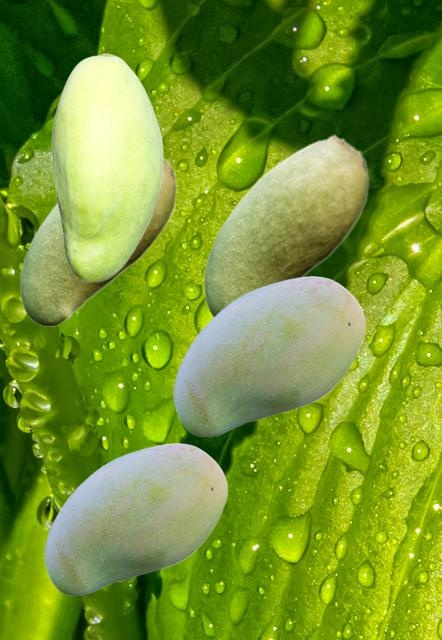green_mango: (173, 276, 365, 435), (203, 134, 368, 317), (44, 443, 227, 594), (19, 155, 176, 325), (51, 53, 162, 281)
